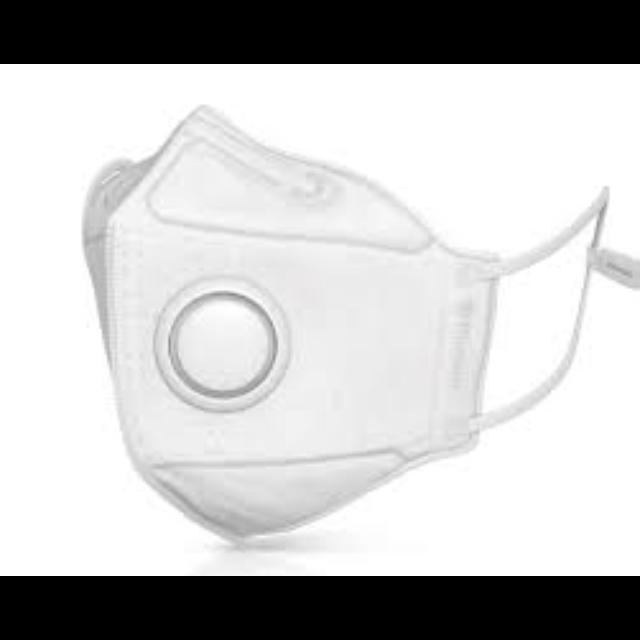masks: (66, 98, 612, 556)
